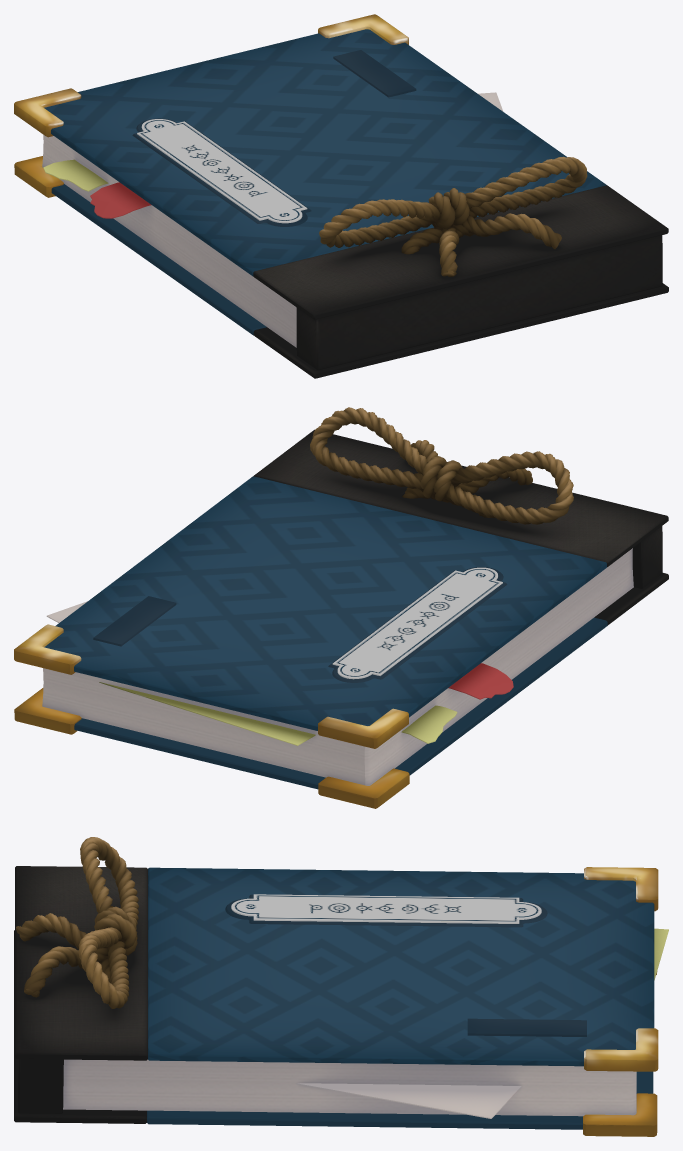
File: book.fccd3075.glb
The picture shows the model from 3 angles, top to bottom: view 1: azimuth 30°, elevation 25°; view 2: azimuth 150°, elevation 25°; view 3: azimuth 270°, elevation 25°; orthographic projection. The views are drawn at different scales.
Visible parts, largest first — view 1: Book; view 2: Book; view 3: Book.
Boxes of the visible parts, bbox=[...] form: Book: bbox=[14, 14, 668, 378]; Book: bbox=[14, 407, 668, 808]; Book: bbox=[14, 837, 668, 1136].
Size of the model in its own units: 0.3643 by 0.1158 by 0.4428.
1 material, 1 textured.
